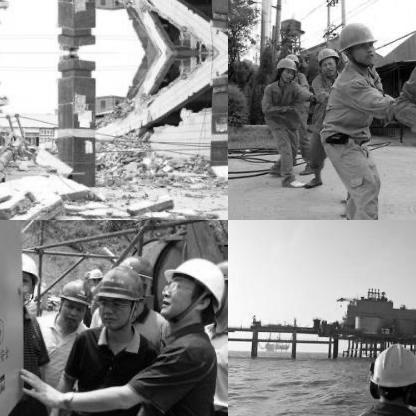Helmet: (168, 253, 227, 323), (366, 336, 415, 413), (93, 262, 142, 328), (333, 18, 377, 66), (52, 276, 90, 328), (211, 254, 227, 318), (18, 252, 38, 298), (316, 43, 340, 75), (273, 56, 297, 80)
